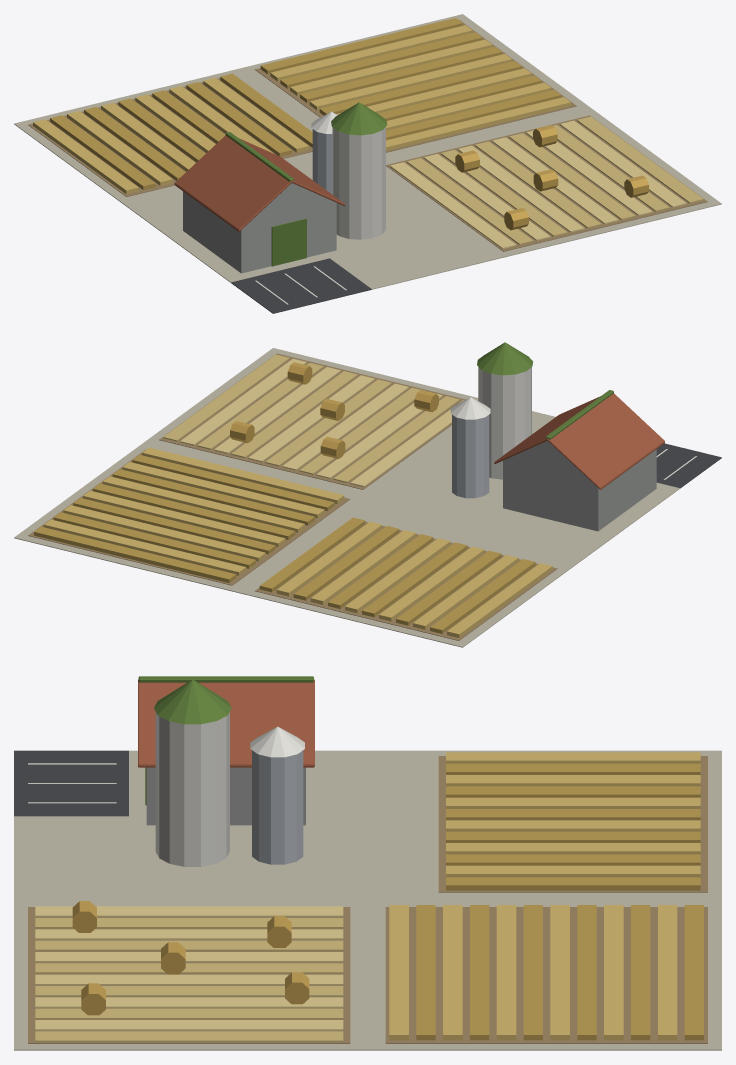
The model's file is farm_cut.glb.
3 views of the same model, one above another, from view 1: azimuth 30°, elevation 25°; view 2: azimuth 150°, elevation 25°; view 3: azimuth 270°, elevation 25° (orthographic). The views are drawn at different scales.
Parts seen in each view (by area): view 1: farm_cut; view 2: farm_cut; view 3: farm_cut.
Boxes of the visible parts, <box> form: farm_cut: <box>14,14,721,313</box>; farm_cut: <box>14,342,721,647</box>; farm_cut: <box>14,676,721,1050</box>.
Size of the model in its own units: 40 by 10.8 by 40.
